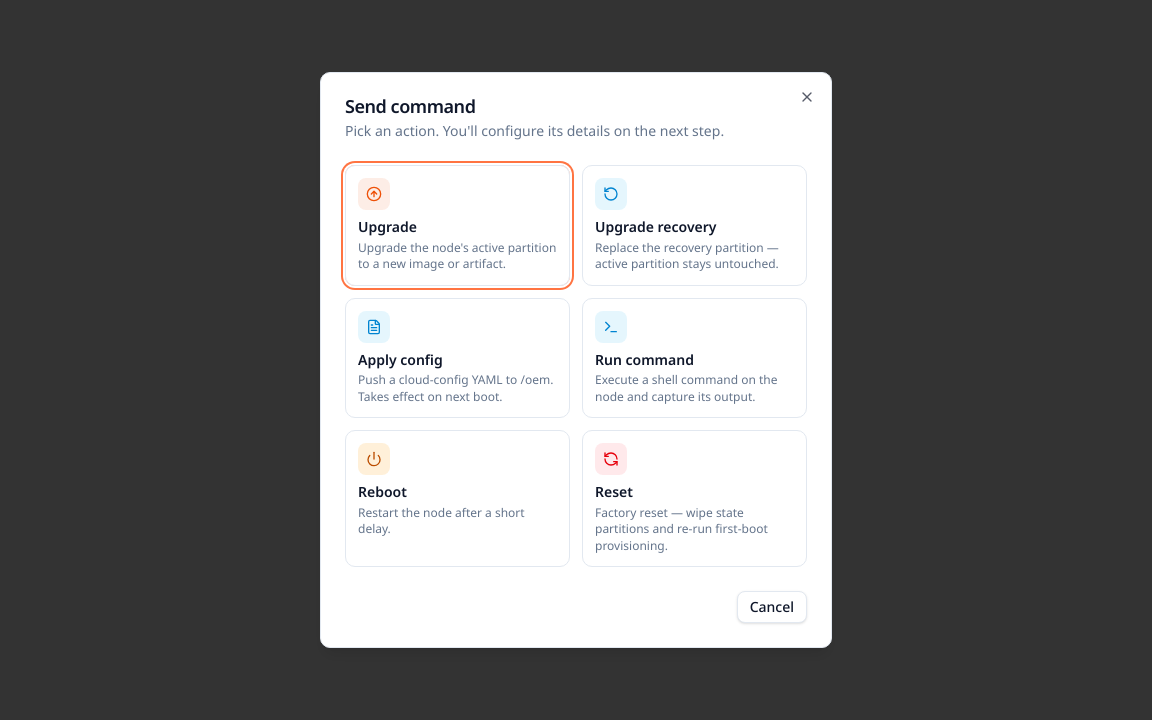
Scenario: the Reset form › still says the reset wipes persistent data
Click the text "Reset".
click(614, 492)  # box [595,482,633,501]
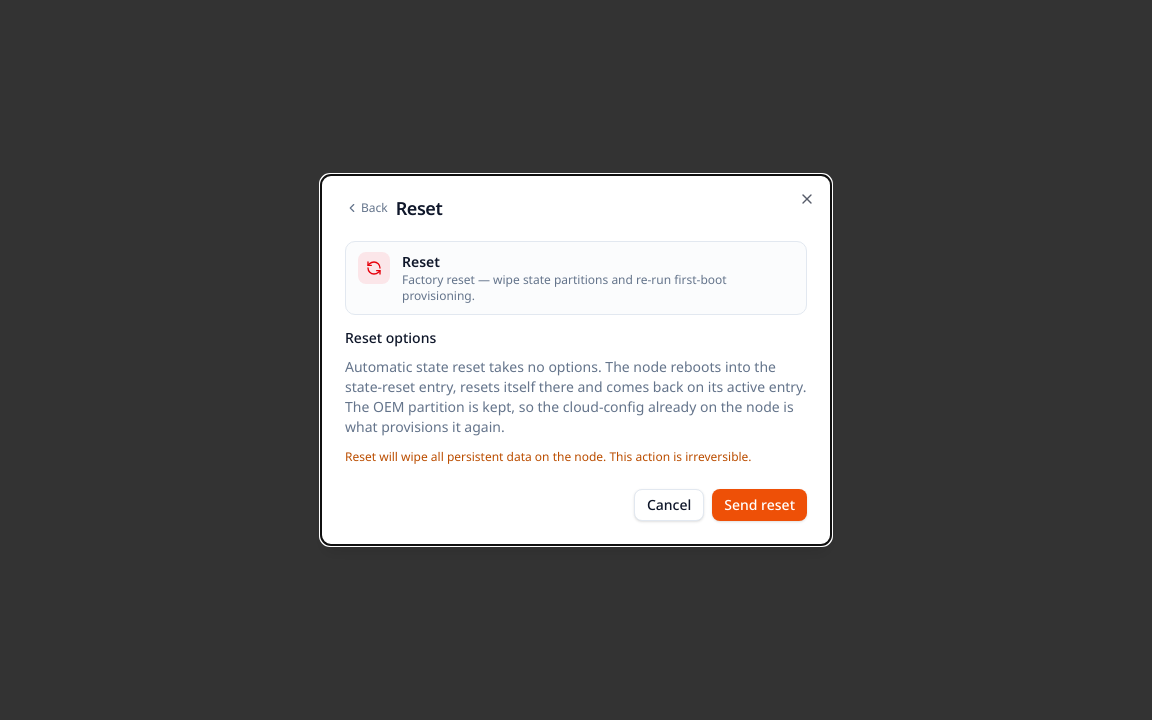
expect the text "wipe all persistent data" is shown: met, box [345,448,752,465]
